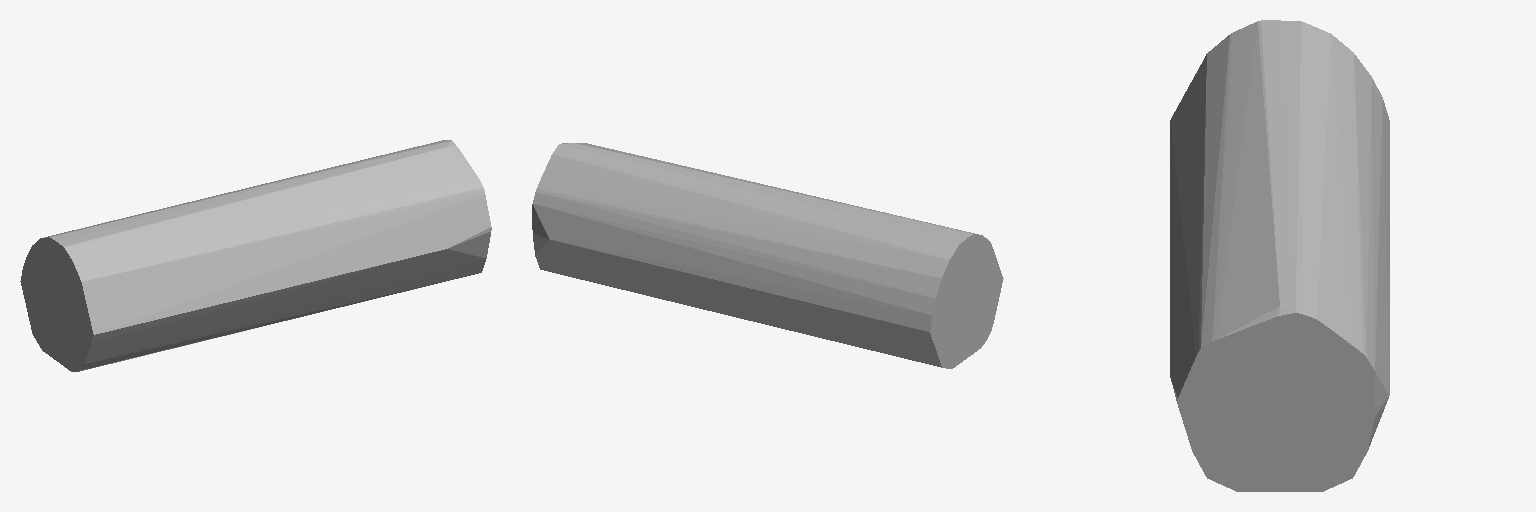
URDF robot description (root):
<robot name="root">
  <link name="link_coacd_convex_piece_0">
    <inertial>
      <origin xyz="0 0 0" rpy="0 0 0"/>
      <inertia ixx="2.29E-02" ixy="-1.88E-04" ixz="1.04E-04" iyy="1.24E-01" iyz="-1.01E-04" izz="1.24E-01"/>
    </inertial>
    <visual>
      <origin xyz="0 0 0" rpy="0 0 0"/>
      <geometry>
        <mesh filename="coacd_convex_piece_0.obj" scale="1.0000E+00 1.0000E+00 1.0000E+00"/>
      </geometry>
      <material name="">
        <color rgba="7.50E-01 7.50E-01 7.50E-01 1"/>
      </material>
    </visual>
    <collision>
      <origin xyz="0 0 0" rpy="0 0 0"/>
      <geometry>
        <mesh filename="coacd_convex_piece_0.obj" scale="1.0000E+00 1.0000E+00 1.0000E+00"/>
      </geometry>
    </collision>
  </link>
  <link name="link_coacd_convex_piece_1">
    <inertial>
      <origin xyz="0 0 0" rpy="0 0 0"/>
      <inertia ixx="6.13E-05" ixy="-1.19E-07" ixz="8.41E-07" iyy="4.99E-04" iyz="-7.23E-07" izz="5.01E-04"/>
    </inertial>
    <visual>
      <origin xyz="0 0 0" rpy="0 0 0"/>
      <geometry>
        <mesh filename="coacd_convex_piece_1.obj" scale="1.0000E+00 1.0000E+00 1.0000E+00"/>
      </geometry>
      <material name="">
        <color rgba="7.50E-01 7.50E-01 7.50E-01 1"/>
      </material>
    </visual>
    <collision>
      <origin xyz="0 0 0" rpy="0 0 0"/>
      <geometry>
        <mesh filename="coacd_convex_piece_1.obj" scale="1.0000E+00 1.0000E+00 1.0000E+00"/>
      </geometry>
    </collision>
  </link>
  <joint name="link_coacd_convex_piece_1_joint" type="fixed">
    <origin xyz="0 0 0" rpy="0 0 0"/>
    <parent link="link_coacd_convex_piece_0"/>
    <child link="link_coacd_convex_piece_1"/>
  </joint>
  <link name="link_coacd_convex_piece_2">
    <inertial>
      <origin xyz="0 0 0" rpy="0 0 0"/>
      <inertia ixx="2.29E-02" ixy="2.62E-04" ixz="-8.37E-05" iyy="1.24E-01" iyz="-1.14E-04" izz="1.24E-01"/>
    </inertial>
    <visual>
      <origin xyz="0 0 0" rpy="0 0 0"/>
      <geometry>
        <mesh filename="coacd_convex_piece_2.obj" scale="1.0000E+00 1.0000E+00 1.0000E+00"/>
      </geometry>
      <material name="">
        <color rgba="7.50E-01 7.50E-01 7.50E-01 1"/>
      </material>
    </visual>
    <collision>
      <origin xyz="0 0 0" rpy="0 0 0"/>
      <geometry>
        <mesh filename="coacd_convex_piece_2.obj" scale="1.0000E+00 1.0000E+00 1.0000E+00"/>
      </geometry>
    </collision>
  </link>
  <joint name="link_coacd_convex_piece_2_joint" type="fixed">
    <origin xyz="0 0 0" rpy="0 0 0"/>
    <parent link="link_coacd_convex_piece_1"/>
    <child link="link_coacd_convex_piece_2"/>
  </joint>
</robot>

--- Facts derived from the render (not from the file) ---
Views: 3 orthographic renders of the robot side by side, from view 1: azimuth 30°, elevation 25°; view 2: azimuth 150°, elevation 25°; view 3: azimuth 270°, elevation 25°.
Model root with 3 links and 2 joints (2 fixed), rooted at link_coacd_convex_piece_0, posed all joints at 0.
Links seen in each view (by area): view 1: link_coacd_convex_piece_1; view 2: link_coacd_convex_piece_1; view 3: link_coacd_convex_piece_1.
Boxes of the visible links, box(x1,y1,x2,y2) form: link_coacd_convex_piece_1: box(20, 140, 491, 371); link_coacd_convex_piece_1: box(532, 143, 1003, 368); link_coacd_convex_piece_1: box(1170, 20, 1389, 491).
Size in the robot's own frame: 0.6276 by 0.1988 by 0.1789 metres.
Meshes: 3 distinct files referenced, 1 mesh visuals loaded (1 OBJ); not drawn: 2 (reference not matched to a file when rendering).